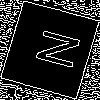N: (25, 24, 81, 71)
